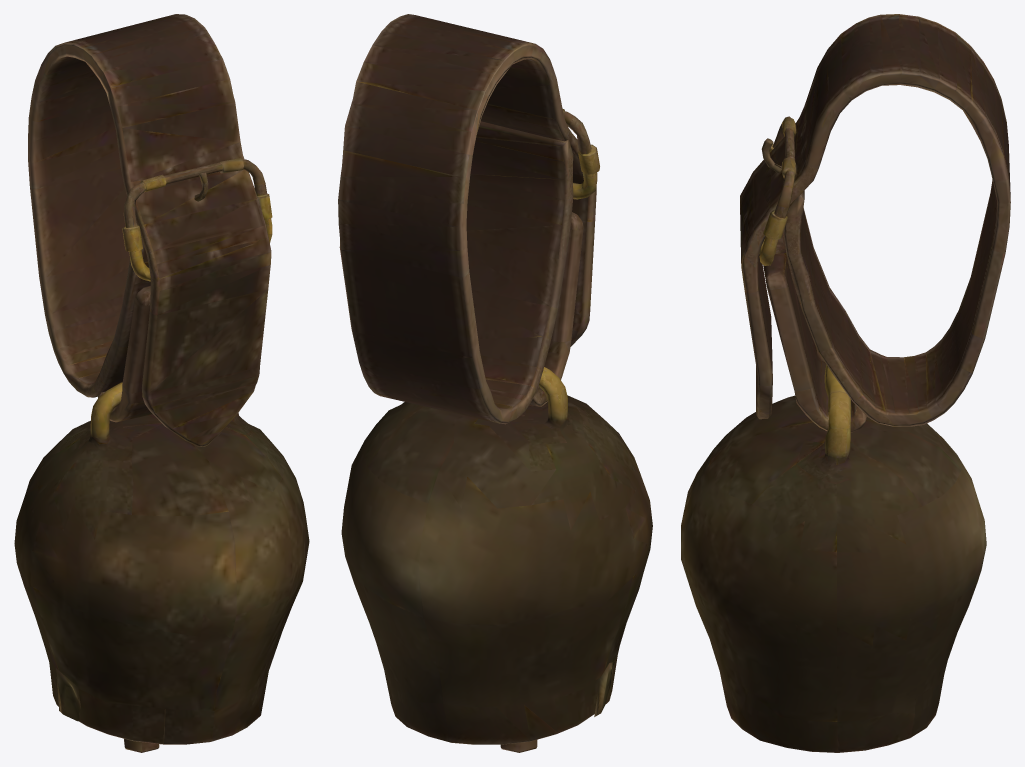
File: prop_campanaccio.glb
The picture shows the model from 3 angles, left to right: view 1: azimuth 30°, elevation 25°; view 2: azimuth 150°, elevation 25°; view 3: azimuth 270°, elevation 25°; orthographic projection. The views are drawn at different scales.
Bounding box in the file's own units: 0.3789 × 0.9517 × 0.4019.
Materials: 1 (1 with a texture image).
